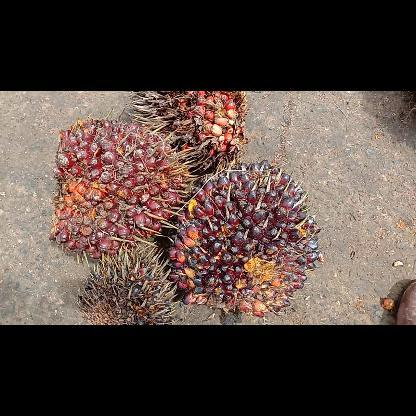Kurang masak: (166, 158, 322, 318)
TBS abnormal: (74, 240, 180, 324)
TBS masak: (46, 116, 183, 262)
Terlalu masak: (121, 92, 249, 178)
